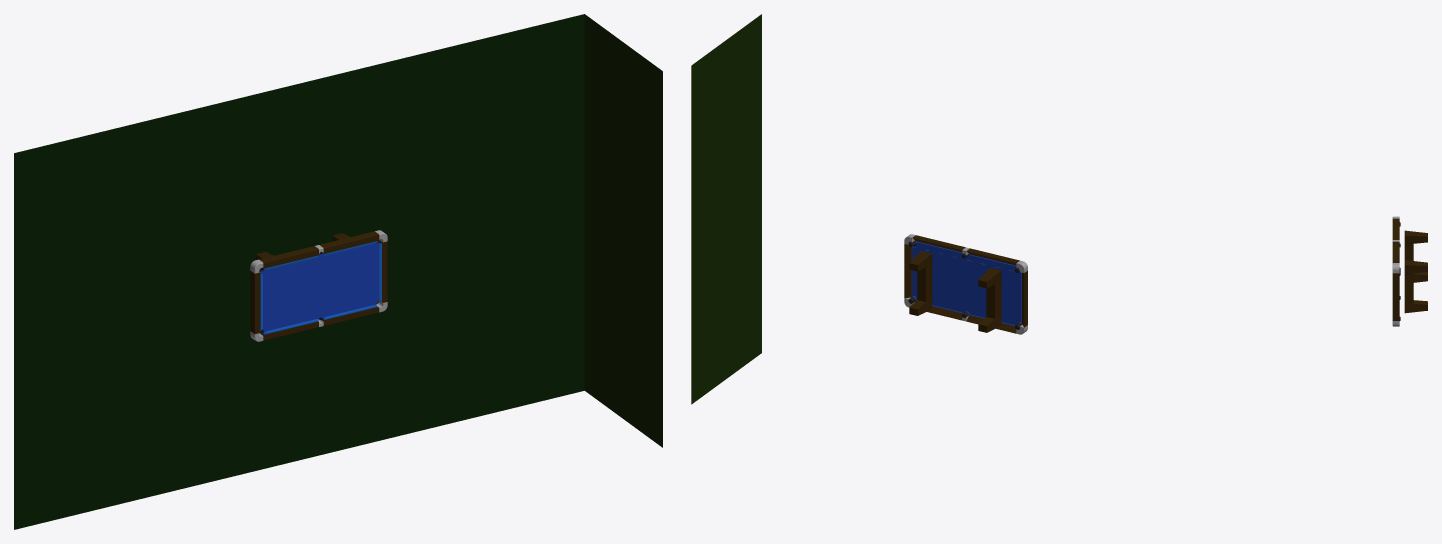
3 renders of one model, left to right at view 1: azimuth 30°, elevation 25°; view 2: azimuth 150°, elevation 25°; view 3: azimuth 270°, elevation 25°, orthographic. The views are drawn at different scales.
Visible parts, largest first — view 1: Room, northwall, FullCloth, SideRail, EndRail; view 2: northwall, FullCloth, Legs, SideRail, EndRail; view 3: Legs, EndRail, SideRail.
Part boxes in pixels (x1,y1,x2,y2): Room: (14, 14, 584, 529); northwall: (584, 14, 662, 447); FullCloth: (260, 243, 380, 333); SideRail: (259, 231, 379, 340); EndRail: (250, 241, 387, 333); northwall: (691, 14, 761, 404); FullCloth: (911, 241, 1021, 325); Legs: (909, 251, 1001, 332); SideRail: (912, 235, 1019, 333); EndRail: (904, 244, 1027, 327); Legs: (1404, 230, 1427, 313); EndRail: (1392, 273, 1399, 320); SideRail: (1392, 218, 1399, 262).
Size of the model in its own units: 215 by 136 by 51.36.
